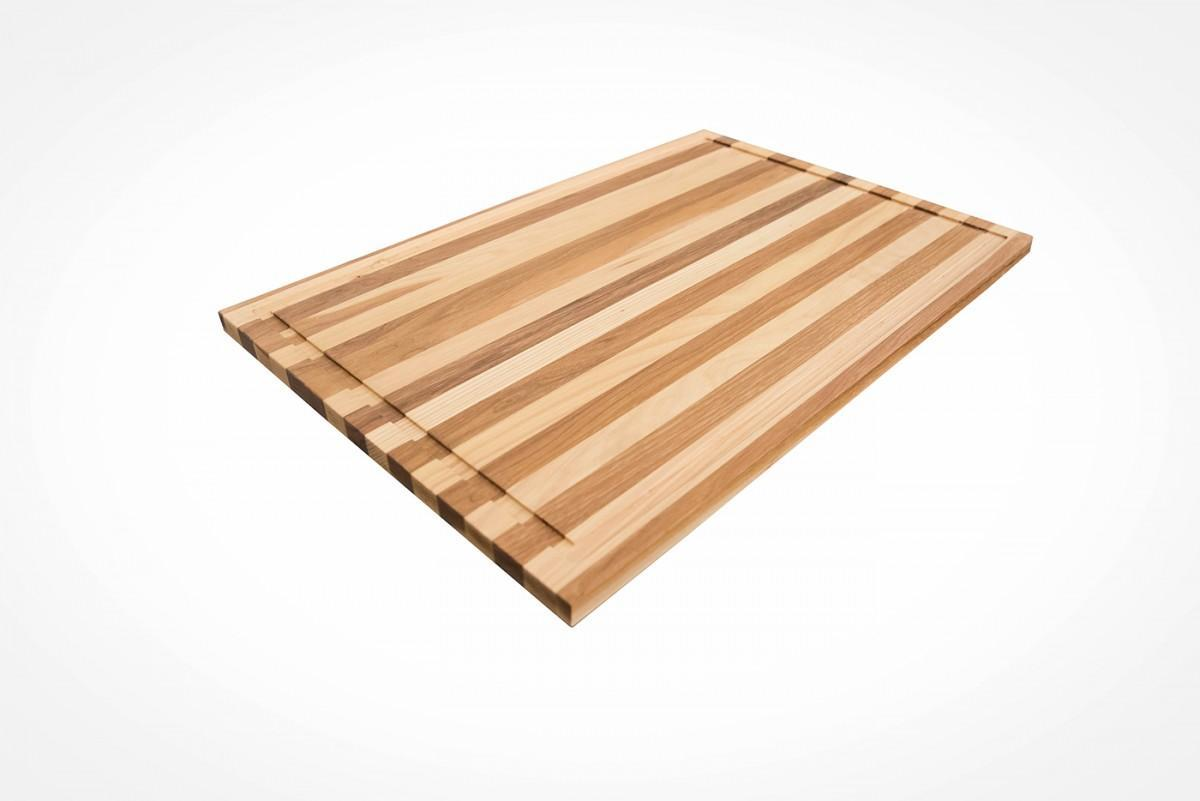gloved_hand: (196, 114, 1042, 640)
